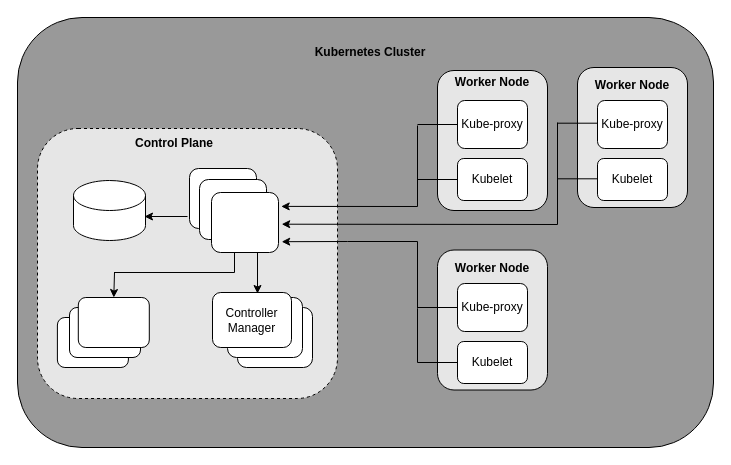
Image size: 731x465. Some labels were removed from this diagram. The shapes that lost their labels are listed below. From the top down, each one's centre as x and y in pixels, then its label:
At point 109,210: "ETCD".
At point 244,222: "API".
At point 113,322: "Scheduler".
